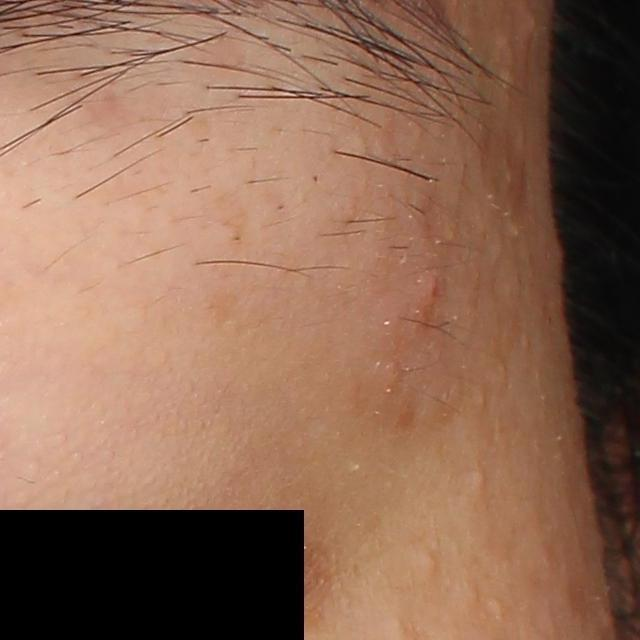comedo: (467, 460, 490, 492), (488, 597, 510, 620), (421, 549, 439, 572)
